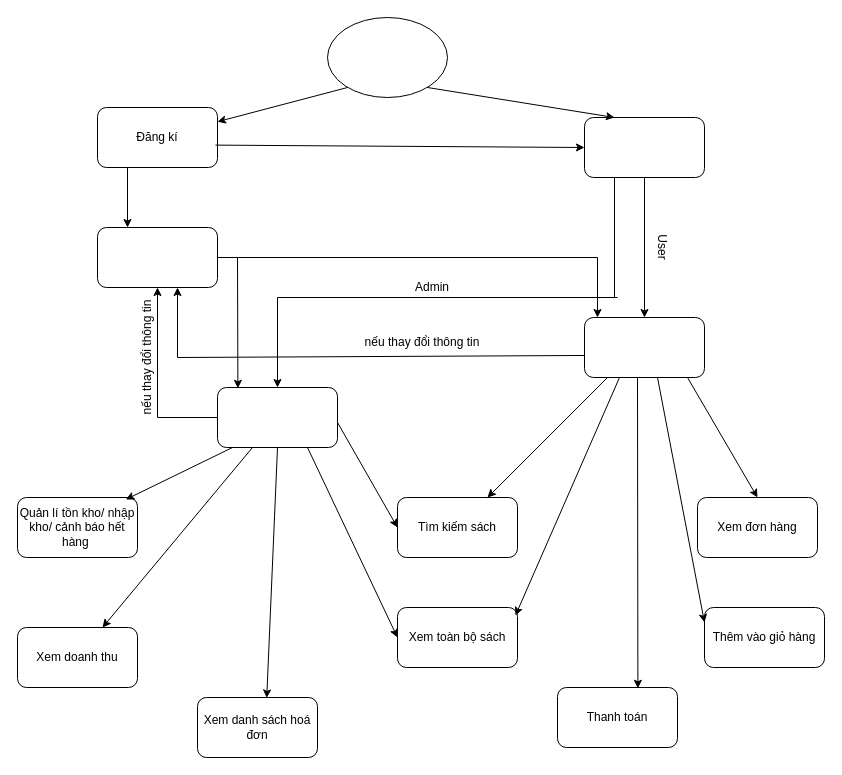
Image size: 842x775. Some labels were removed from this diagram. Here are the shapes that lost their labels. From the top down, the centre of each, then its label:
[387,57]: Start
[644,147]: Đăng nhập
[157,257]: Cập nhật thông tin người dùng
[644,347]: Trang chủ User
[277,417]: Trang chủ Admin
